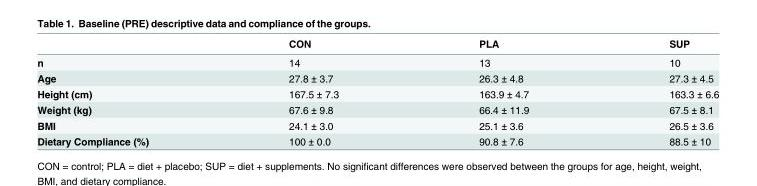table: (36, 37, 718, 146)
table column: (217, 37, 408, 146), (408, 37, 598, 146), (36, 37, 217, 146), (598, 37, 718, 146)
table column header: (36, 37, 718, 52)
table row: (36, 52, 718, 69), (36, 69, 718, 85), (36, 85, 718, 101), (36, 101, 718, 117), (36, 117, 718, 133), (36, 37, 718, 52), (36, 133, 718, 146)
